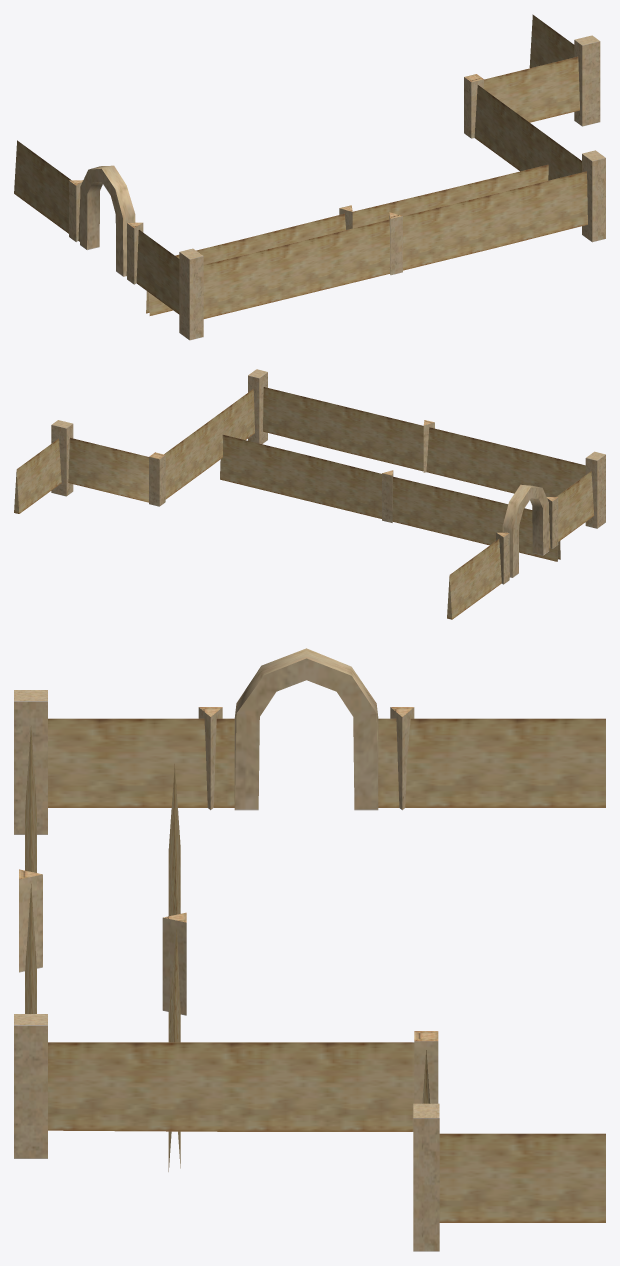
Rendered from poi_tato_corral_half_64x64_s03_l1.fbx.
The picture shows the model from 3 angles, top to bottom: view 1: azimuth 30°, elevation 25°; view 2: azimuth 150°, elevation 25°; view 3: azimuth 270°, elevation 25°; orthographic projection. The views are drawn at different scales.
Parts seen in each view (by area): view 1: mesh_node; view 2: mesh_node; view 3: mesh_node.
Boxes of the visible parts, left/top/right/bottom form: mesh_node: left=14, top=14, right=605, bottom=340; mesh_node: left=14, top=369, right=605, bottom=619; mesh_node: left=14, top=648, right=605, bottom=1251.
Size of the model in its own units: 42.26 by 9 by 24.71.
